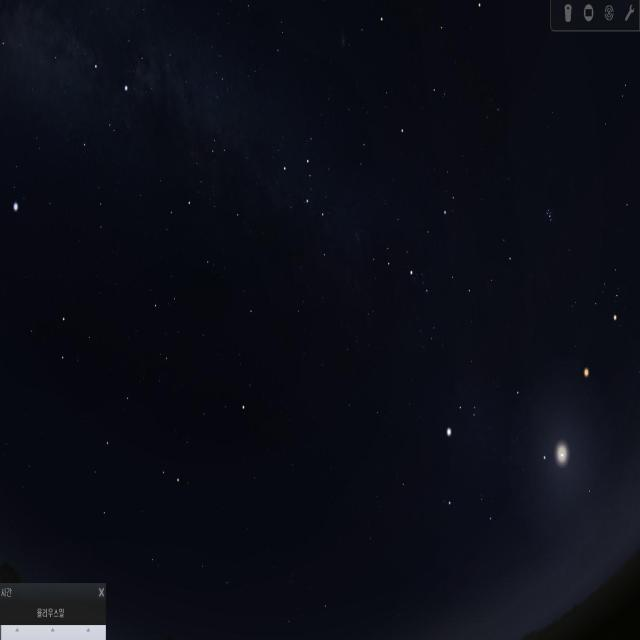moon: (541, 414, 585, 502)
pleiades: (540, 194, 556, 228)
